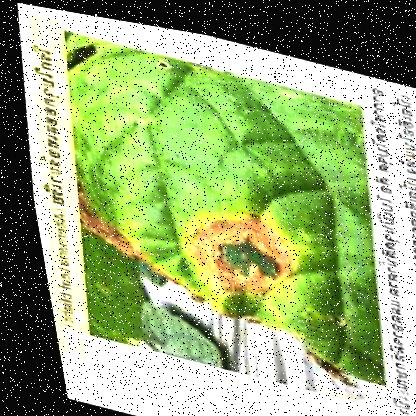AlternariaBrassicicola: (159, 176, 300, 312)
